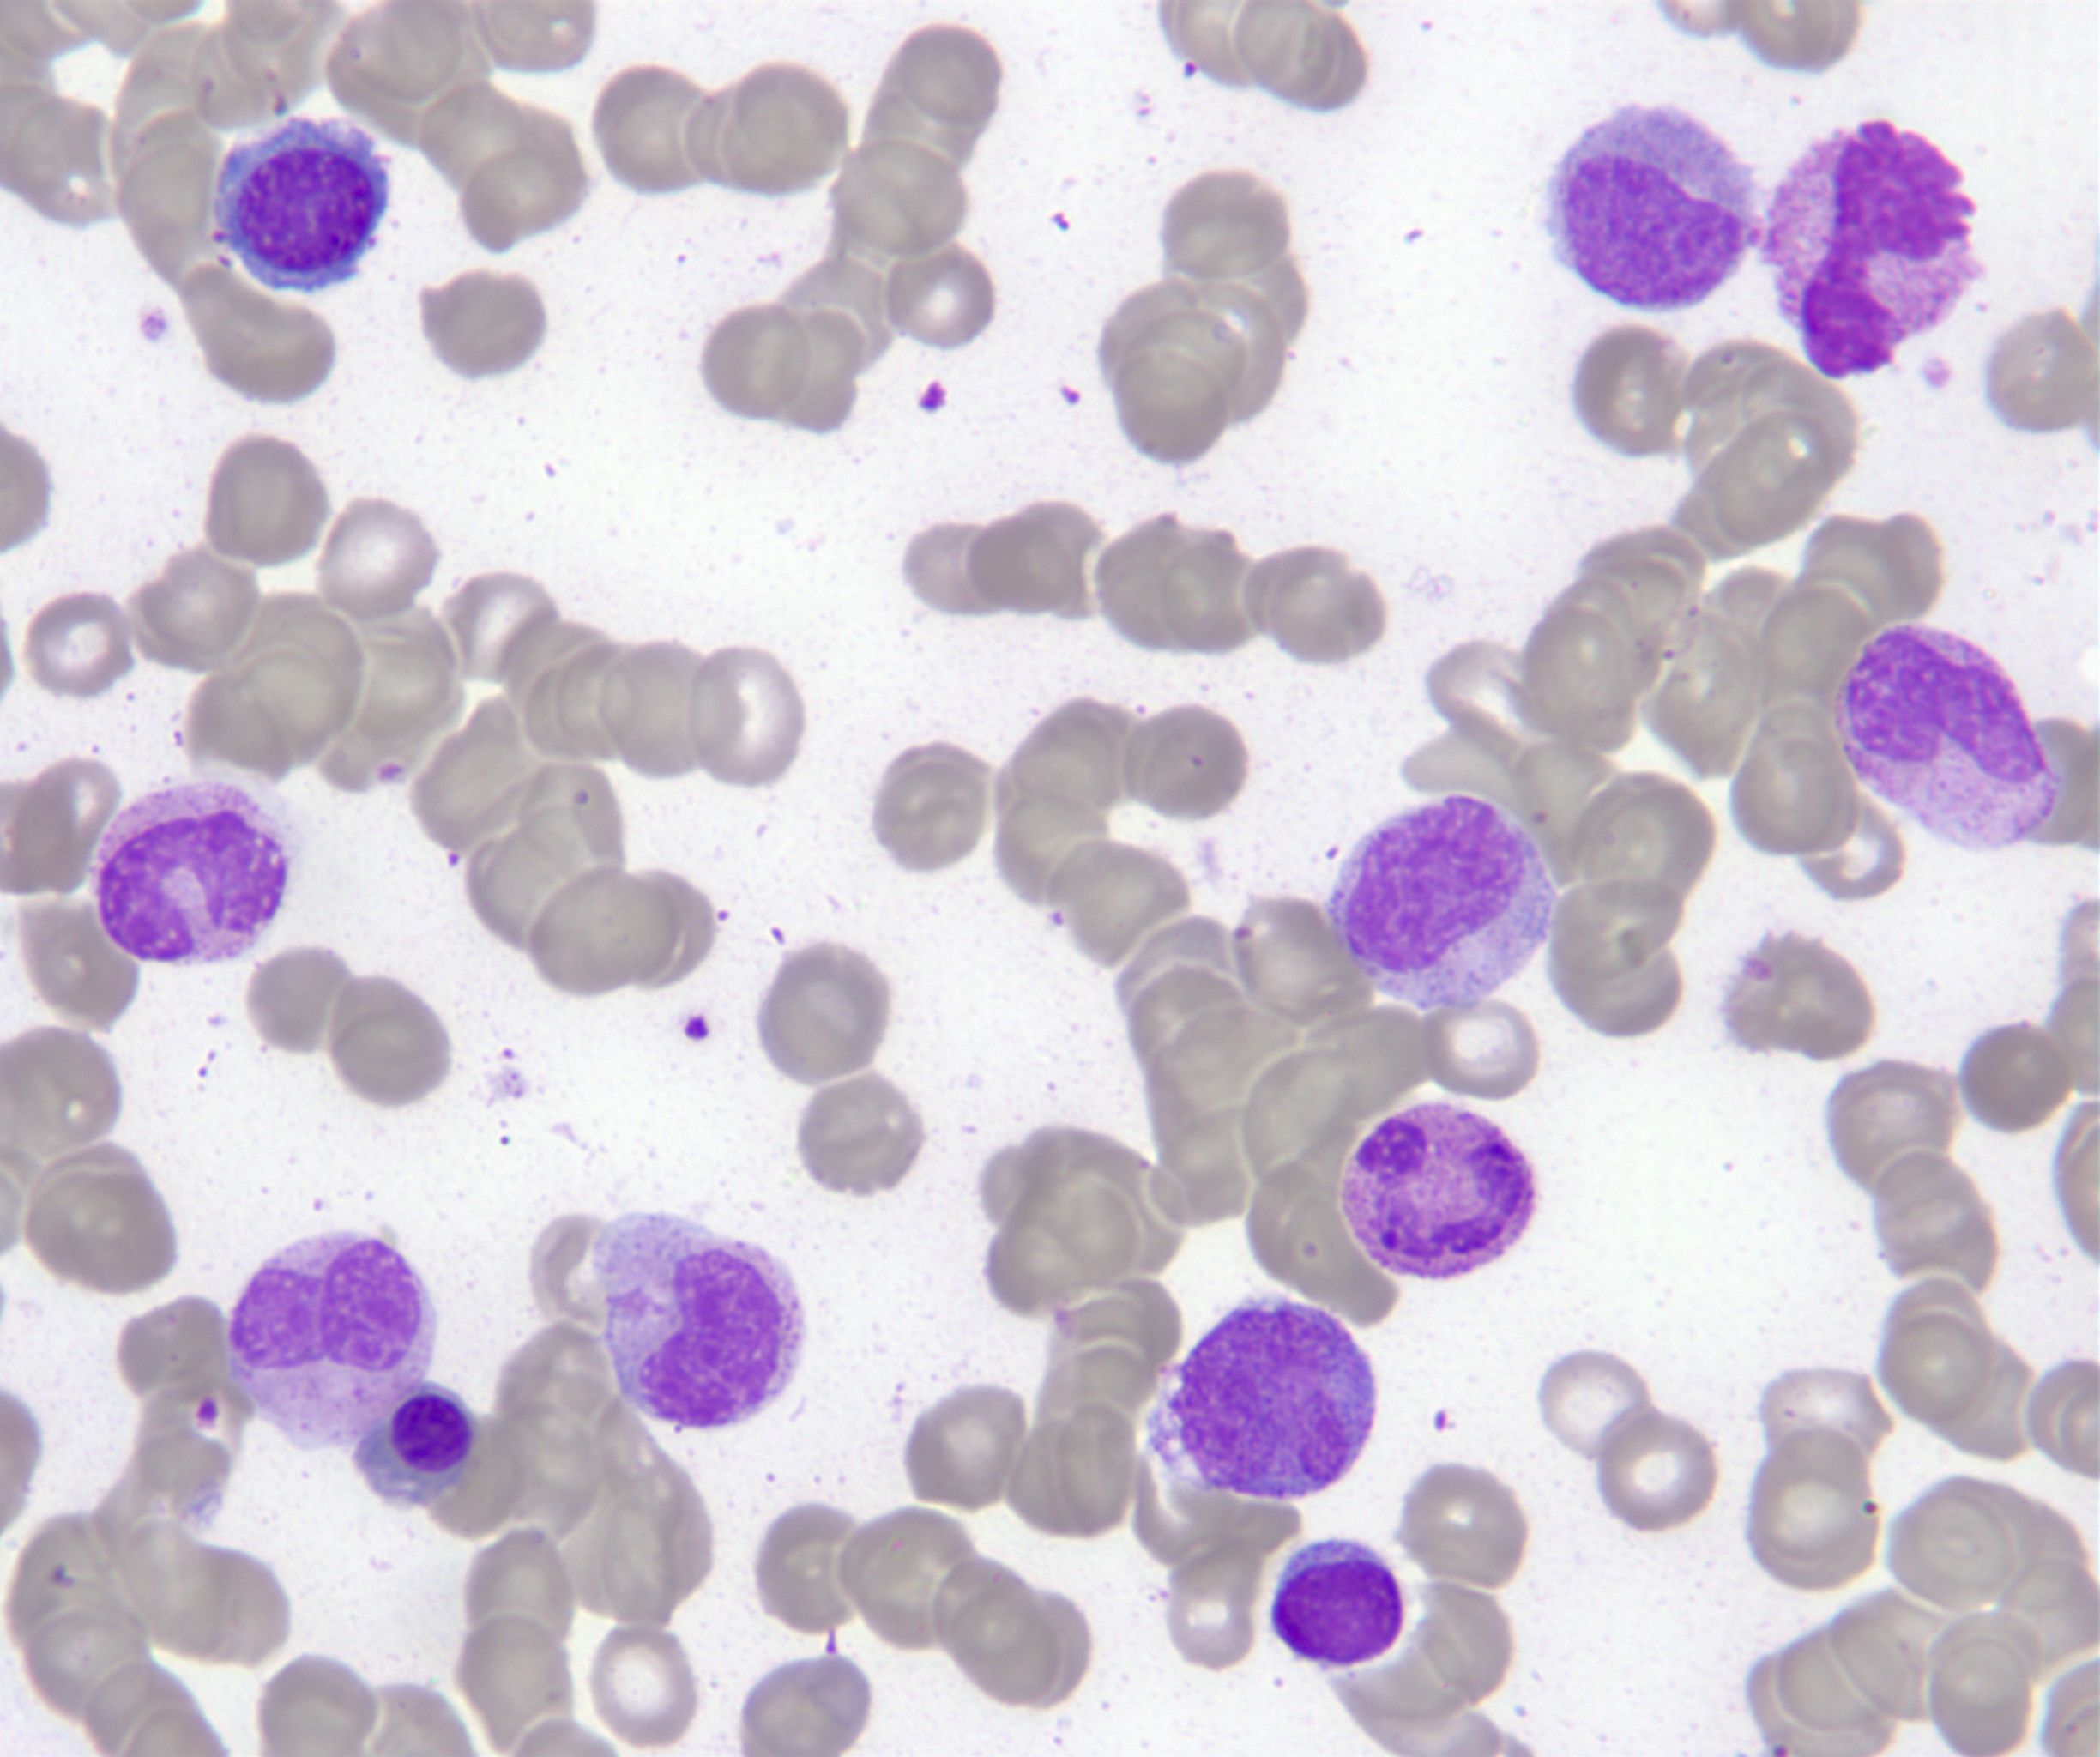23: (213, 117, 389, 295)
24: (351, 1382, 478, 1514)
3: (1331, 797, 1556, 1010), (591, 1209, 802, 1429), (1149, 1298, 1374, 1501), (1547, 105, 1755, 312)
32: (1270, 1541, 1404, 1665)
4: (1835, 625, 2056, 851), (230, 1230, 434, 1452)
5: (92, 783, 290, 968)
6: (1341, 1101, 1535, 1279)
x: (1763, 122, 1985, 377)
